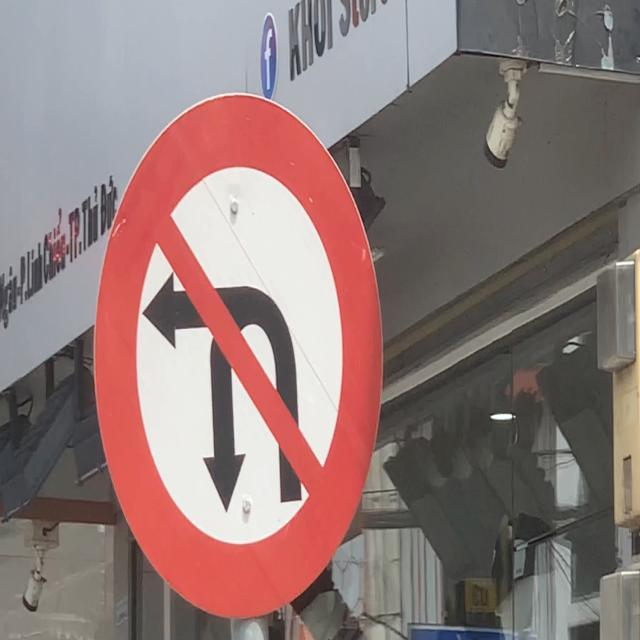Cam con lai: (90, 90, 386, 624)
